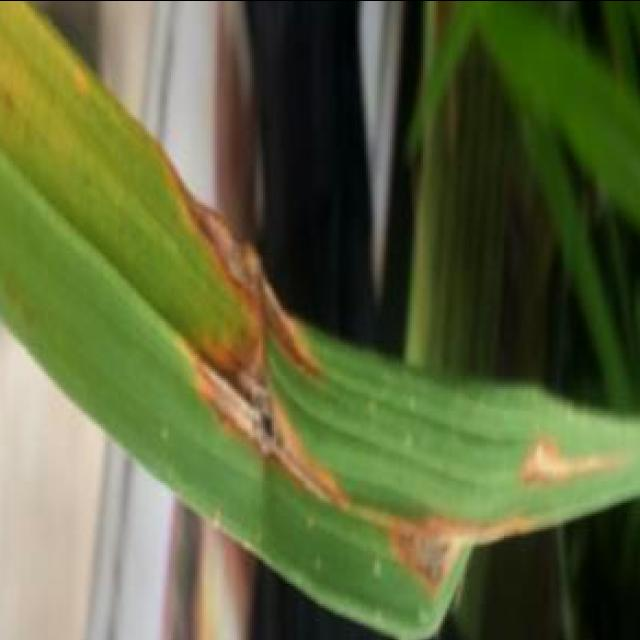Leaf_Blast: (195, 318, 364, 520), (202, 162, 353, 386), (386, 506, 552, 607), (528, 425, 640, 504)
